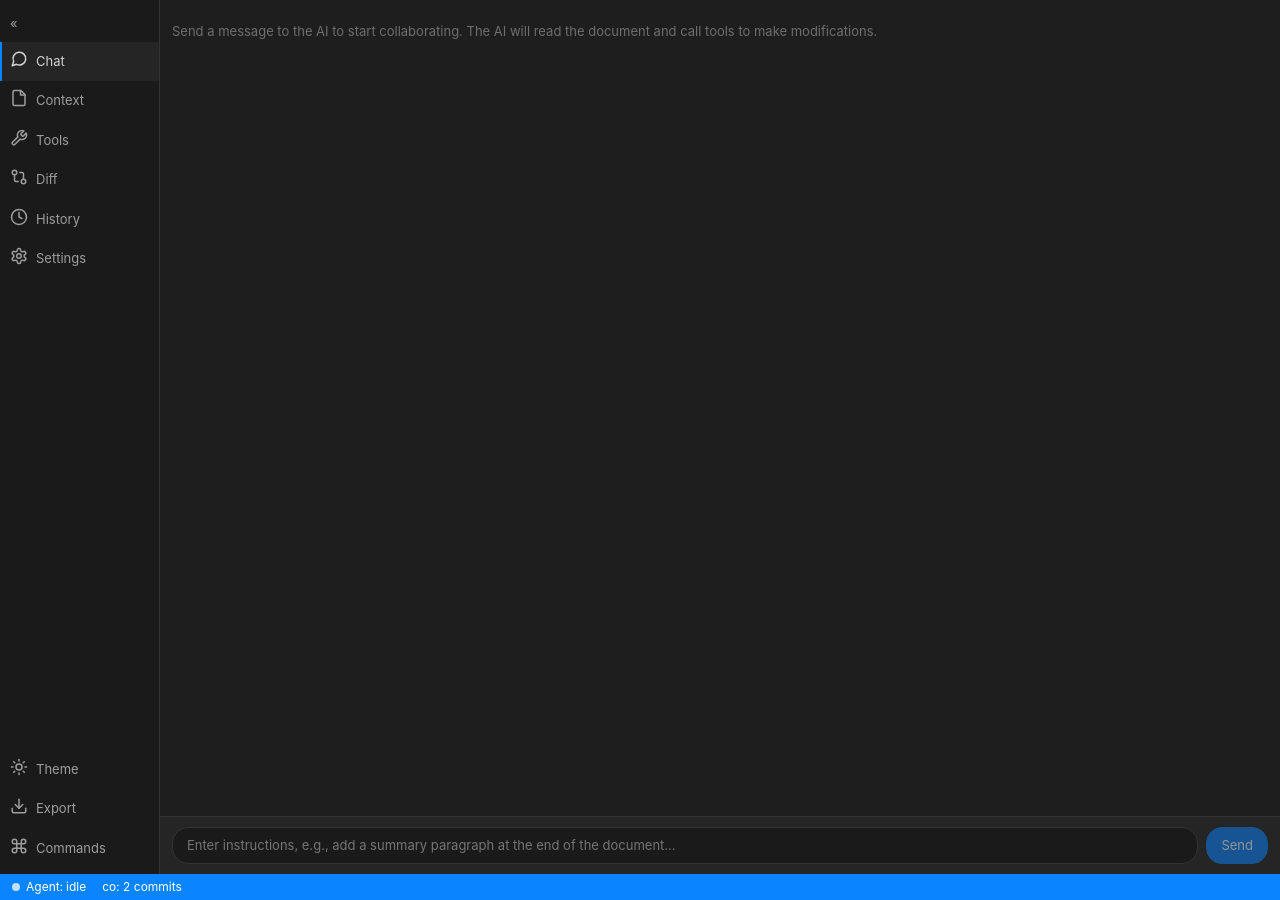
Test: Agent Deck › opens the export dialog with bundle checked by default and the include-co warning hidden
What coordinates should you click on to do the following:
click the button with test id "rail-export"
I would click on:
 (80, 809)
Its box is [0, 789, 159, 828].
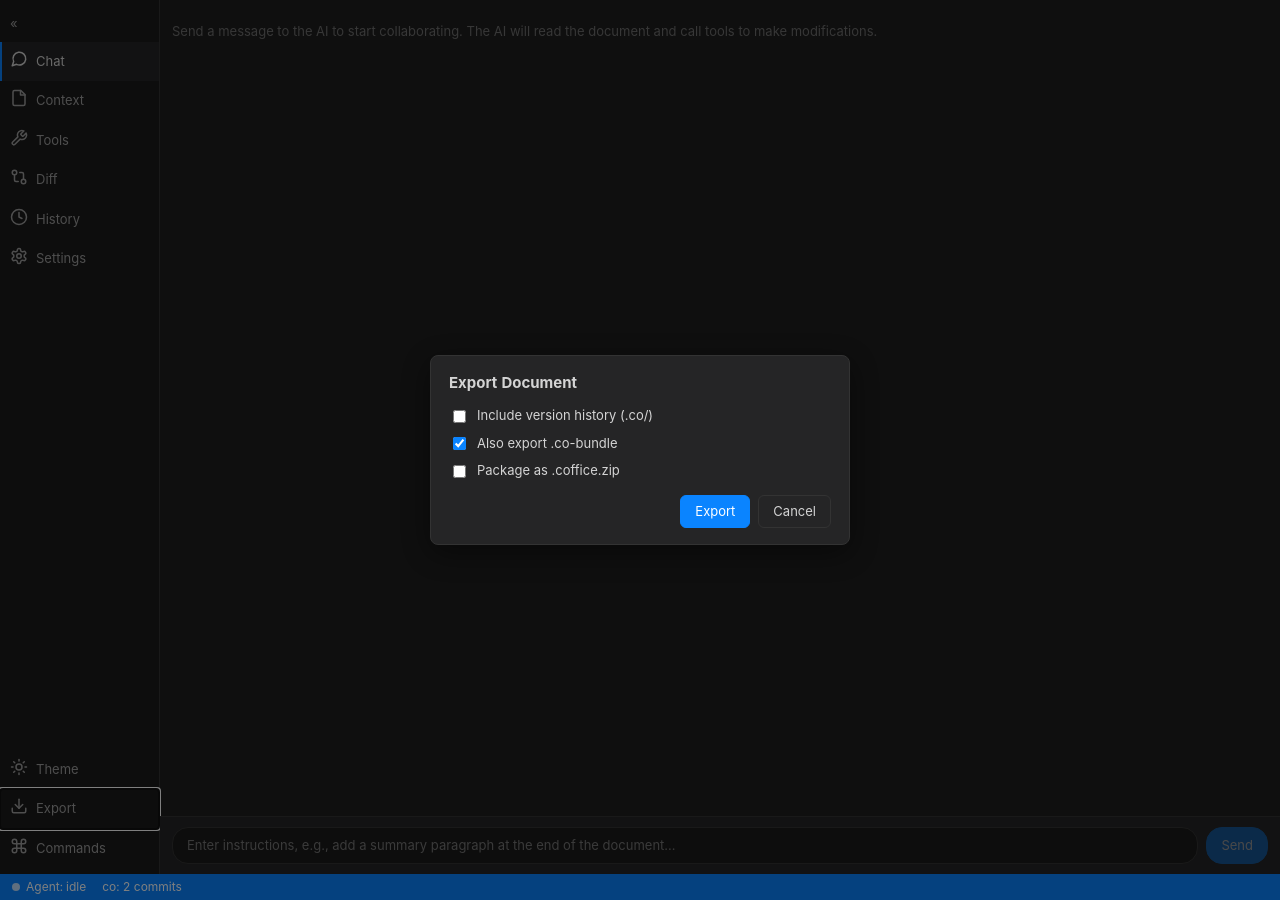
Check: the dialog with test id "export-dialog" is shown
Check: the label with test id "checkbox-include-bundle" reads "Also export .co-bundle", box [477, 435, 618, 451]
Check: the checkbox labelled "Also export .co-bundle" is checked, box [453, 437, 466, 450]
checking Include version history reveals the mandatory warning (doc 14.6)
What coordinates should you click on to do the following:
click the checkbox labelled "Include version history (.co/)"
I would click on:
 (460, 416)
Its box is [453, 410, 466, 422].
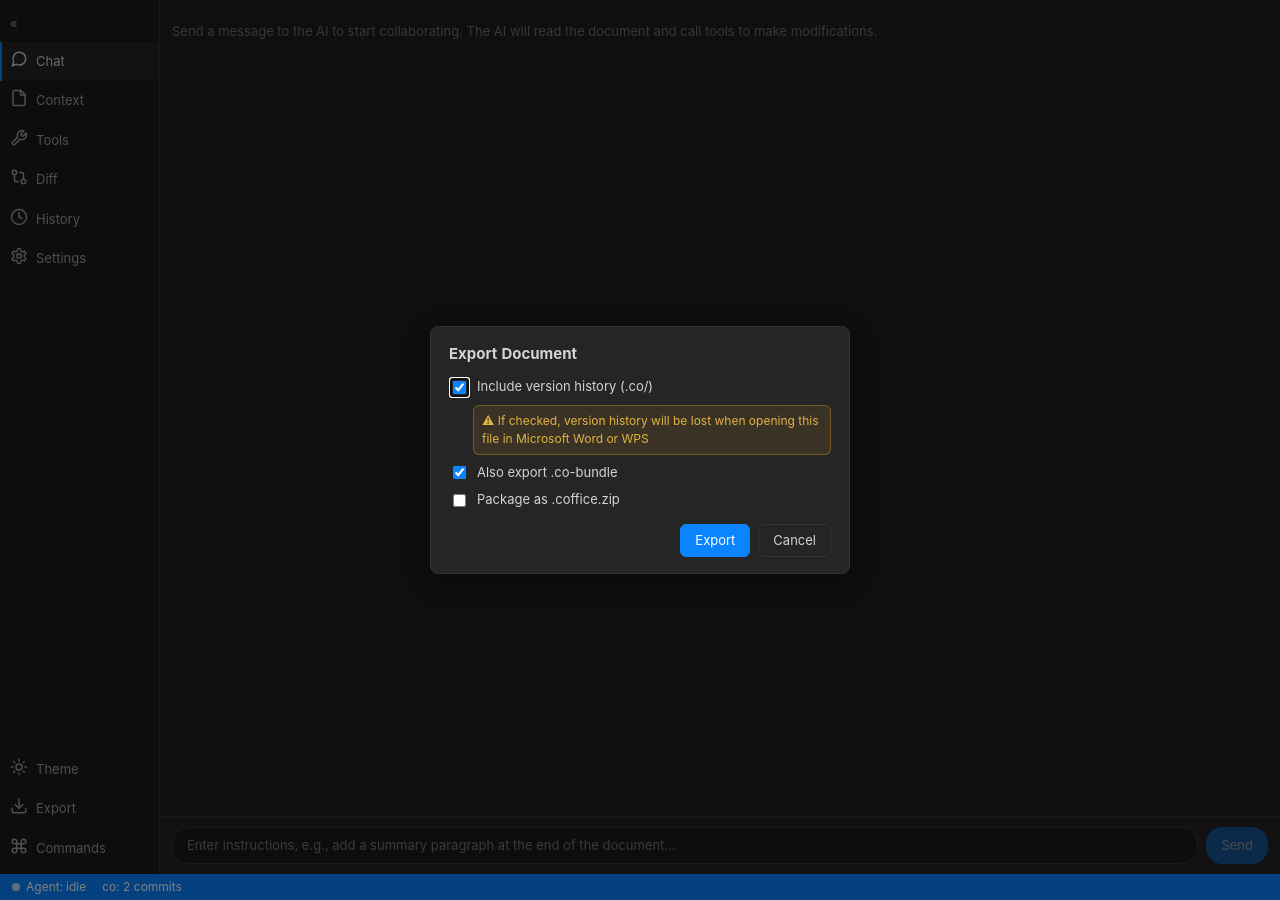
Check: the text with test id "export-warning" shows "If checked, version history will be lost when opening this file in Microsoft Word or WPS", box [482, 413, 818, 446]
